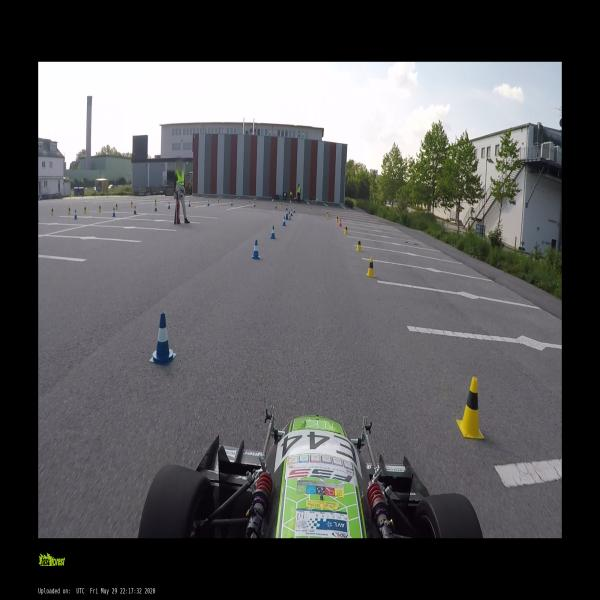blue_cone: (150, 312, 176, 365), (251, 240, 260, 259), (270, 226, 276, 238), (111, 207, 116, 217), (282, 216, 286, 226), (74, 210, 77, 221), (153, 204, 157, 211), (288, 212, 292, 219), (133, 205, 136, 214), (207, 199, 210, 206), (293, 206, 296, 213), (230, 200, 233, 206), (188, 200, 190, 206), (168, 202, 169, 209)
orange_cone: (339, 218, 342, 227)
yellow_cone: (458, 378, 482, 440), (366, 258, 375, 278), (356, 238, 363, 252), (343, 225, 348, 235), (83, 206, 87, 214), (50, 208, 54, 216), (68, 206, 71, 216), (98, 204, 101, 212), (130, 200, 133, 208), (115, 202, 118, 210), (326, 211, 329, 217), (309, 206, 312, 211), (336, 215, 338, 222), (154, 198, 156, 204), (217, 198, 219, 203)
